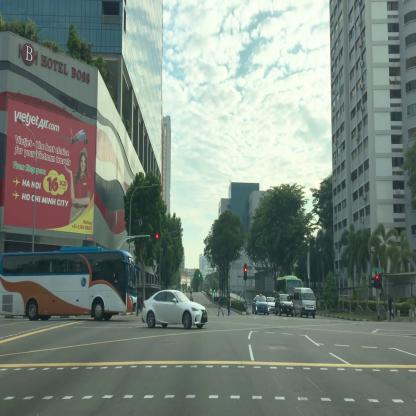red_traffic_light: (150, 232, 158, 238), (244, 266, 247, 281)
